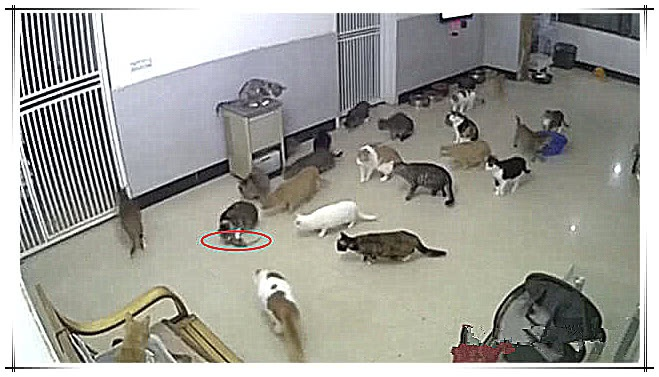cat: (252, 268, 306, 361), (336, 230, 447, 265), (293, 200, 377, 238), (392, 160, 455, 206), (273, 166, 319, 212), (115, 189, 145, 255), (112, 312, 151, 362), (282, 149, 342, 181), (485, 155, 531, 196), (355, 144, 403, 183), (217, 202, 259, 241), (512, 114, 545, 163), (236, 166, 271, 201), (447, 110, 479, 145), (378, 112, 414, 141), (341, 101, 372, 131), (541, 108, 572, 135), (448, 89, 475, 112)
